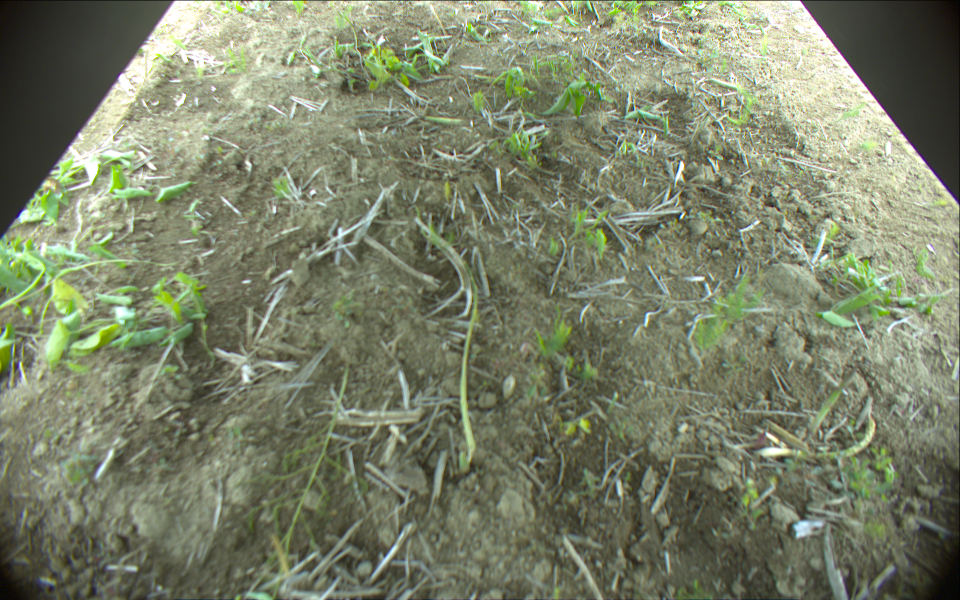aspa: (425, 227, 479, 463), (762, 413, 876, 456), (809, 363, 860, 435)
